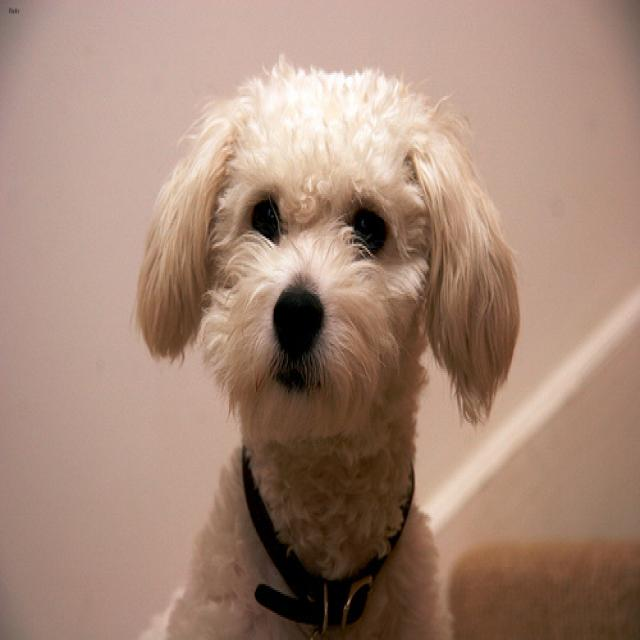dog-havanese: (131, 52, 535, 636)
